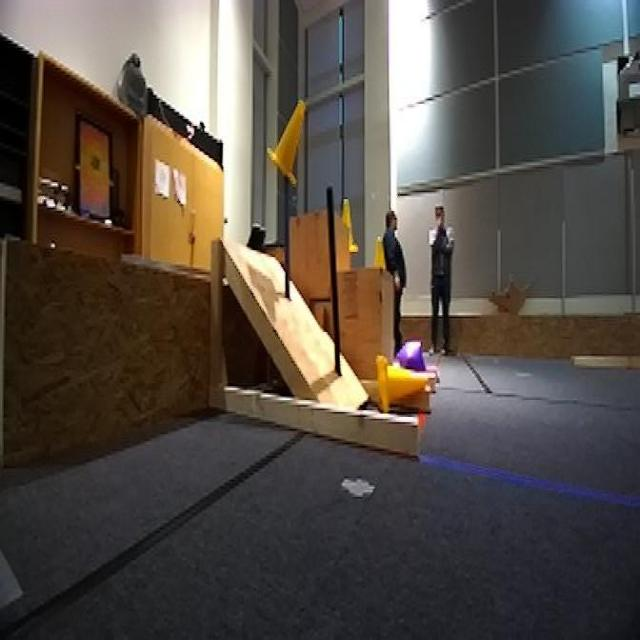frc_cone: (268, 100, 308, 189), (375, 356, 428, 412), (337, 194, 361, 254), (371, 238, 386, 274)
frc_cube: (397, 339, 427, 381)
